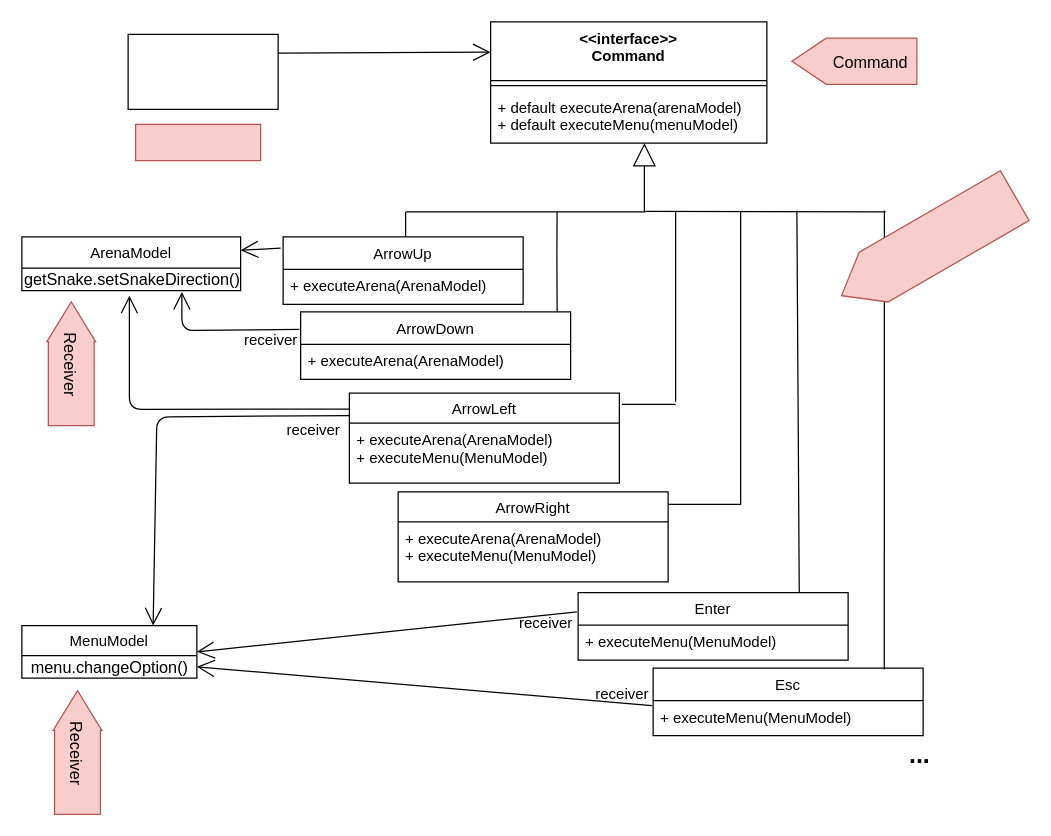
The diagram is 1051 pixels wide and 836 high, and some of its shapes have lost their labels. The centre of each missing label's shape, as x and y in pixels:
ConcreteCommands: pixel 927 245
Controllers: pixel 202 71
Invoker: pixel 197 142
